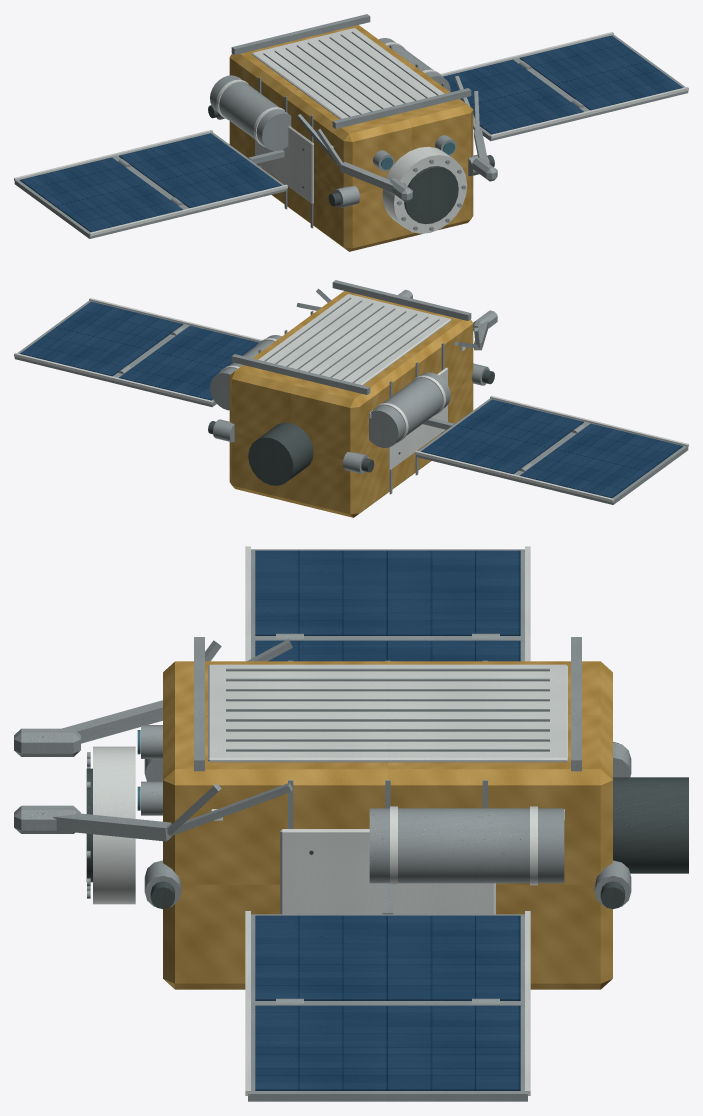
Rendered from OrbitalServiceTugRig.fbx.
The picture shows the model from 3 angles, top to bottom: view 1: azimuth 30°, elevation 25°; view 2: azimuth 150°, elevation 25°; view 3: azimuth 270°, elevation 25°; orthographic projection. The views are drawn at different scales.
Parts seen in each view (by area): view 1: Bus_RigMesh, SolarPort_RigMesh, SolarStarboard_RigMesh; view 2: Bus_RigMesh, SolarPort_RigMesh, SolarStarboard_RigMesh; view 3: Bus_RigMesh, SolarStarboard_RigMesh, SolarPort_RigMesh.
Part boxes in pixels (x1,y1,x2,y2): Bus_RigMesh: (208,14,497,251); SolarPort_RigMesh: (14,130,287,238); SolarStarboard_RigMesh: (441,32,688,141); Bus_RigMesh: (208,280,497,517); SolarPort_RigMesh: (415,396,688,504); SolarStarboard_RigMesh: (14,298,262,407); Bus_RigMesh: (14,637,688,989); SolarStarboard_RigMesh: (245,883,530,1101); SolarPort_RigMesh: (245,546,530,661).
Size of the model in its own units: 1060 by 215 by 555.
